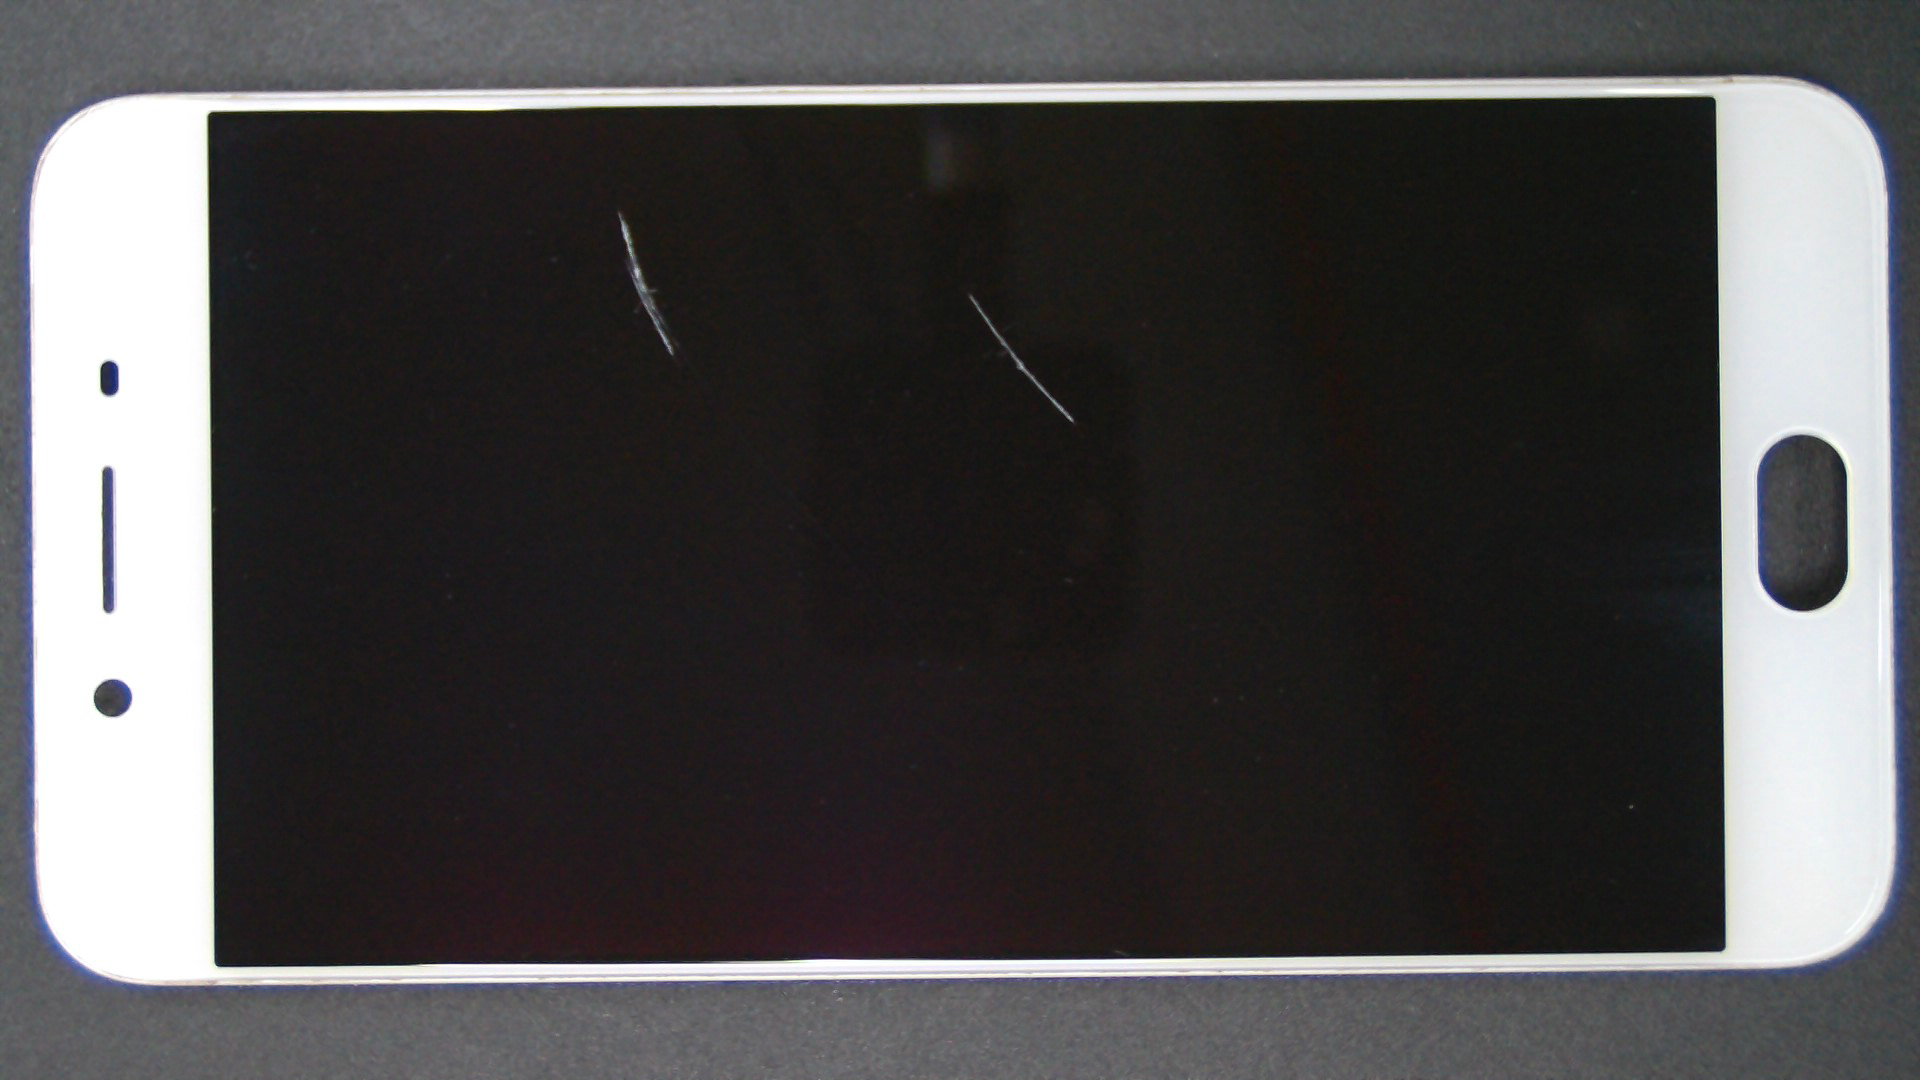defect: (969, 293, 1073, 423), (618, 212, 673, 356)
